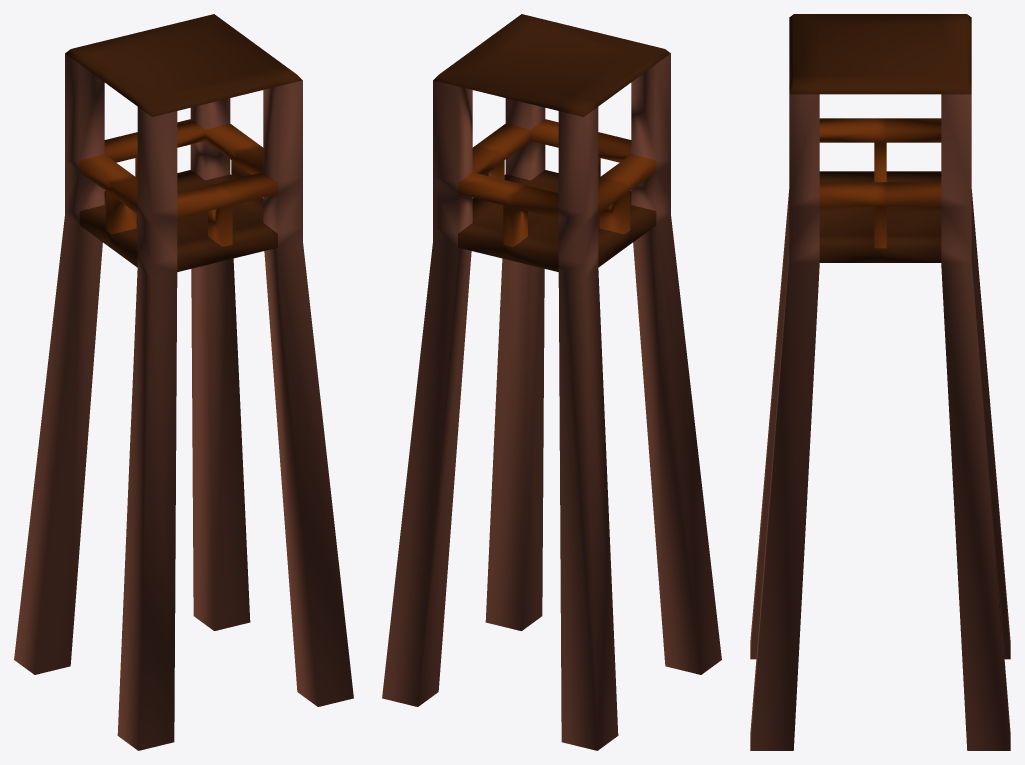
Rendered from ShoreTower.glb.
The picture shows the model from 3 angles, left to right: view 1: azimuth 30°, elevation 25°; view 2: azimuth 150°, elevation 25°; view 3: azimuth 270°, elevation 25°; orthographic projection. The views are drawn at different scales.
Visible parts, largest first — view 1: Tower; view 2: Tower; view 3: Tower.
Part boxes in pixels (<box>): Tower: <box>14,14,353,750</box>; Tower: <box>382,14,721,750</box>; Tower: <box>750,14,1010,750</box>.
Size of the model in its own units: 4 by 10.95 by 4.
1 material, 1 textured.
